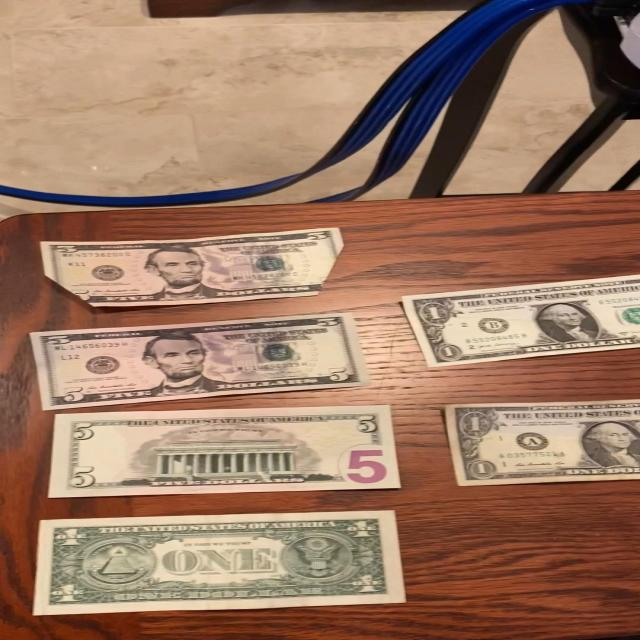1-Front: (21, 512, 401, 620), (396, 272, 640, 372), (440, 401, 640, 488)
5-Back: (36, 404, 394, 501)
5-Front: (27, 313, 357, 410), (39, 226, 344, 308)
